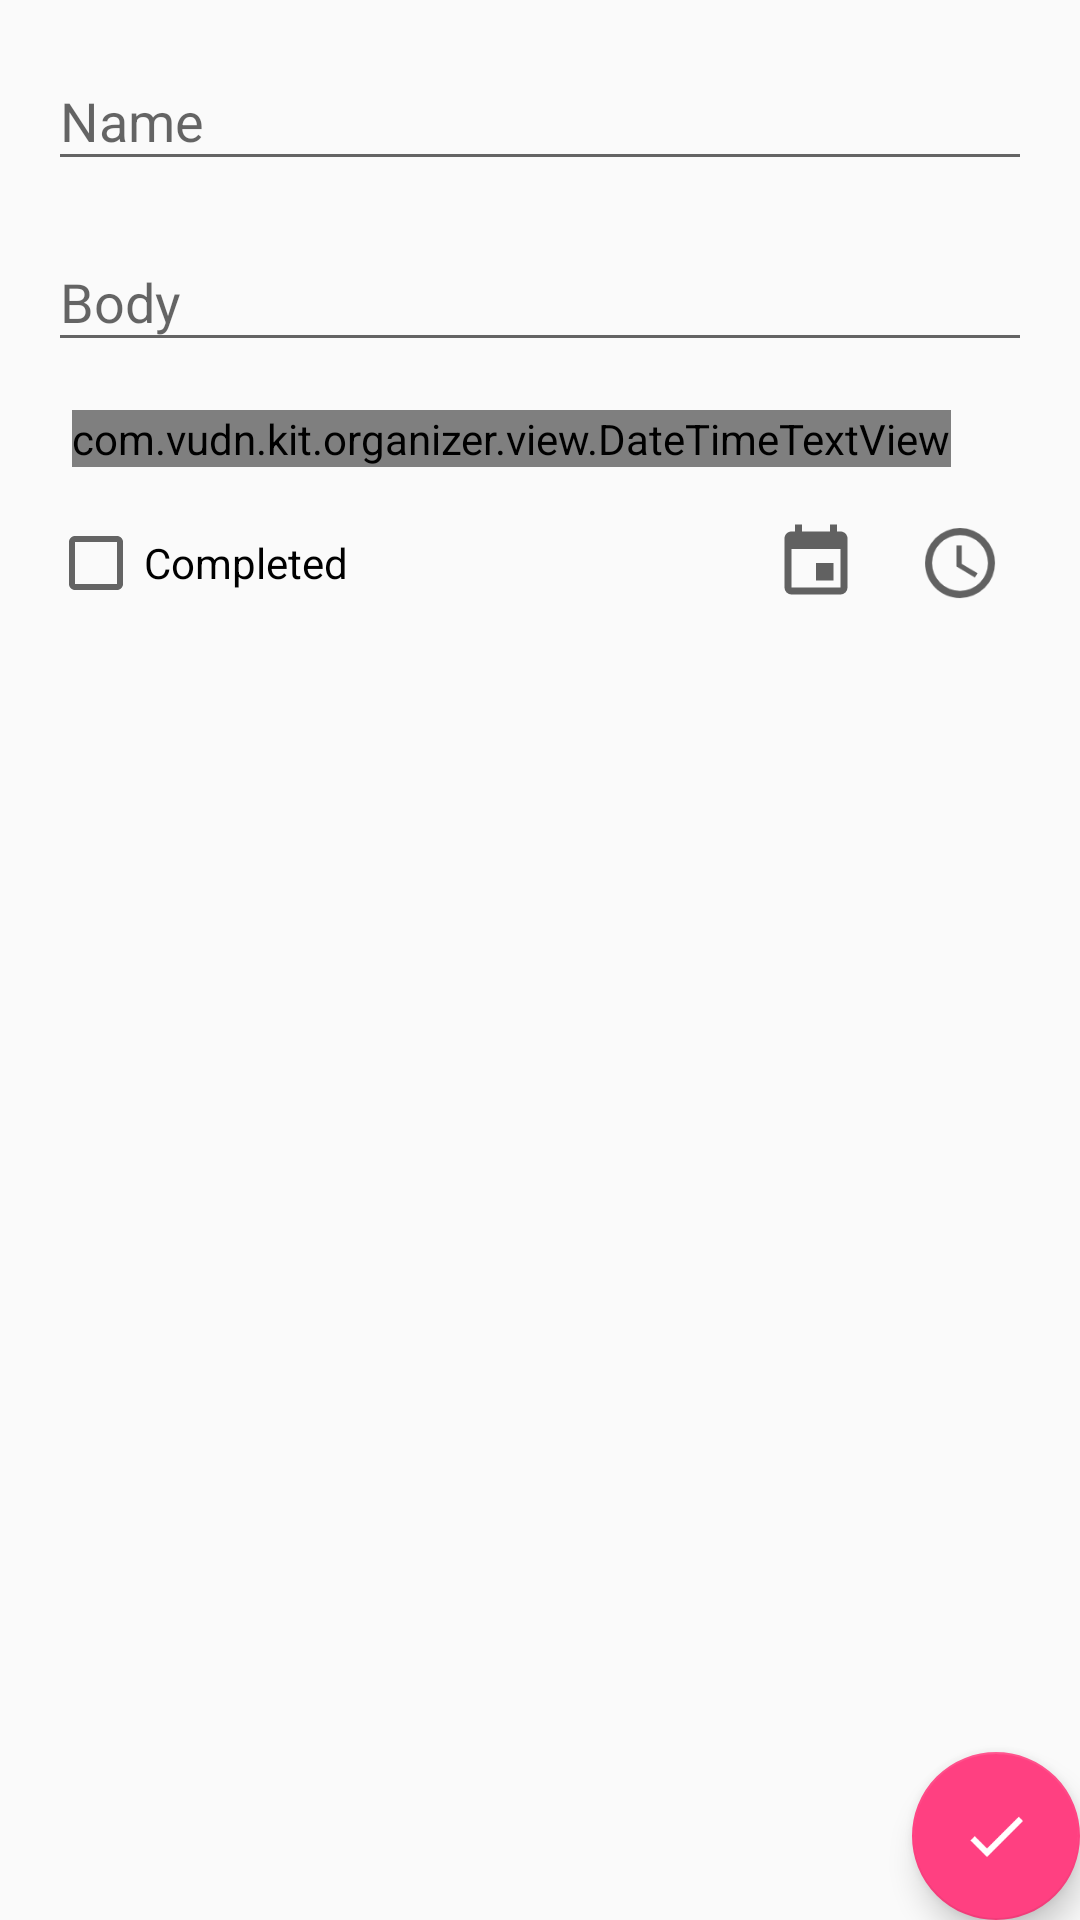

Point at icon controls on the screen. Image size 1080px×1920px, points as (x,y).
calendar: (816,559)
check: (996,1836)
clock: (960,563)
